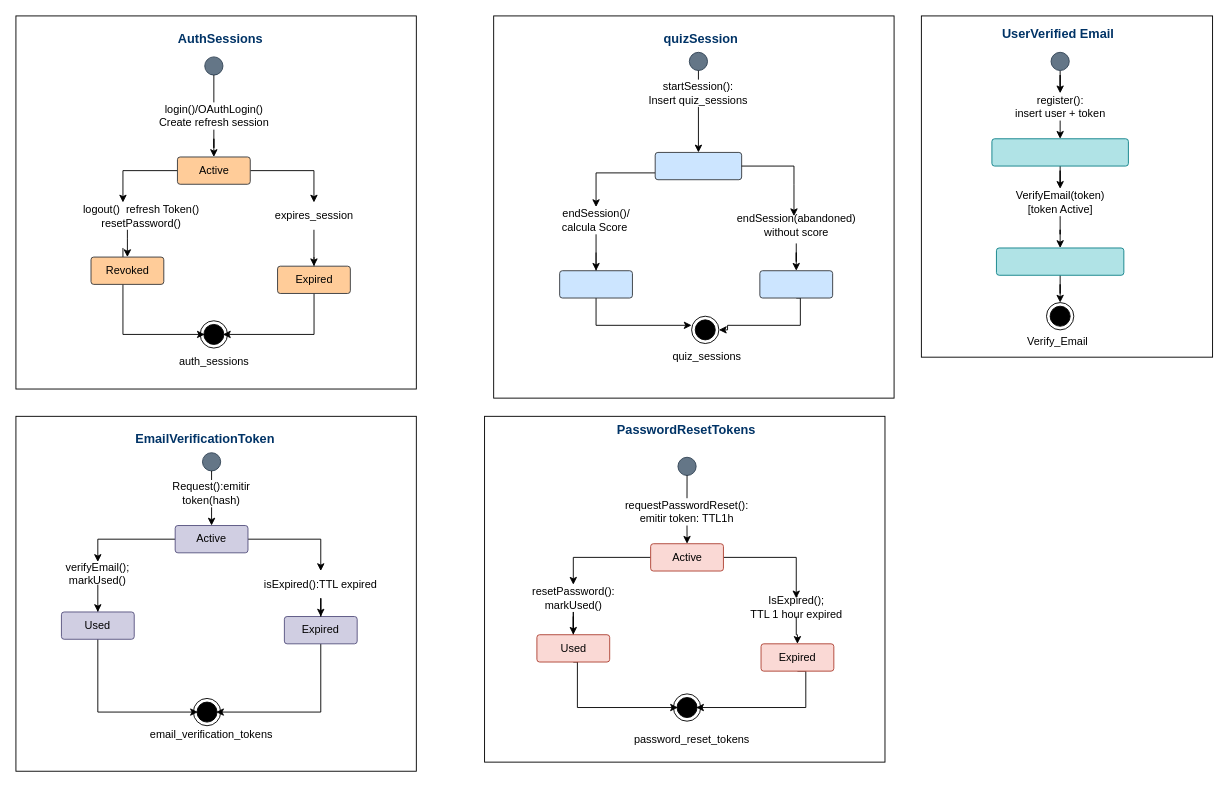
This 1229x787 diagram has some shape labels left out. Each missing label, with the centre of its shape:
"abandoned" belongs at pixel 796 284.
"completed" belongs at pixel 595 284.
"in_progress / SubmitAnswer()" belongs at pixel 698 166.
"Not verified (isEmailVerified = false)" belongs at pixel 1059 152.
"Verified (isEmailVerified = true)" belongs at pixel 1060 261.
